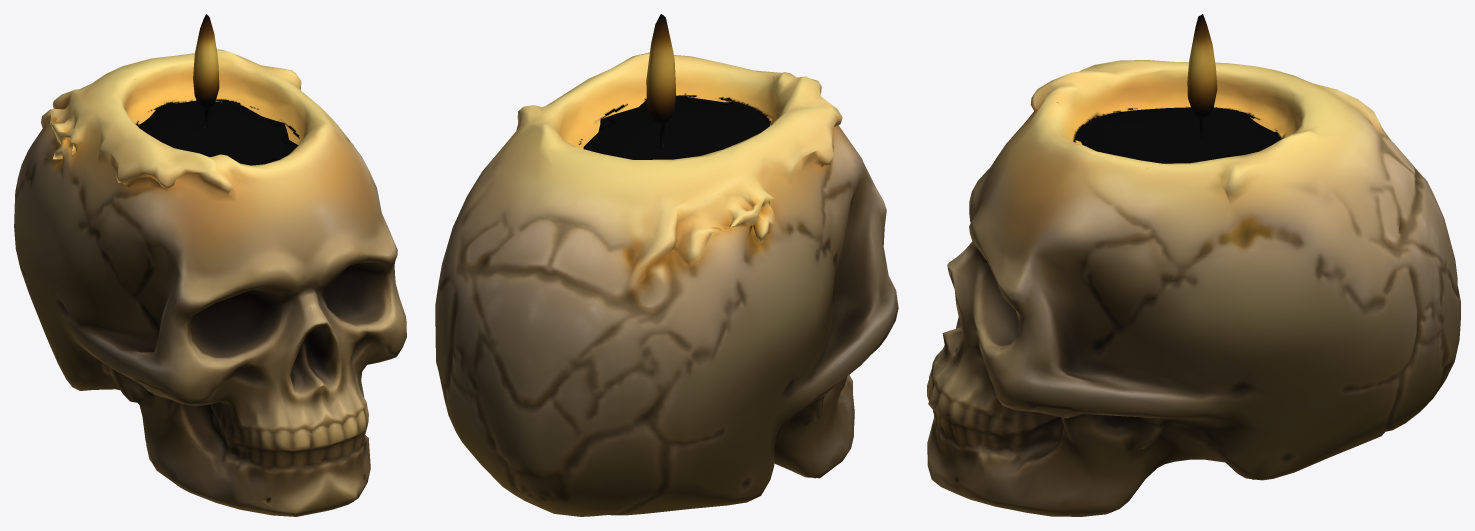
The model's file is crypt_SkullCandle.glb.
The picture shows the model from 3 angles, left to right: view 1: azimuth 30°, elevation 25°; view 2: azimuth 150°, elevation 25°; view 3: azimuth 270°, elevation 25°; orthographic projection. The views are drawn at different scales.
Visible parts, largest first — view 1: world; view 2: world; view 3: world.
Boxes of the visible parts, x1,y1,x2,y2 form: world: (14, 14, 406, 516); world: (435, 14, 898, 516); world: (927, 14, 1460, 516).
Bounding box in the file's own units: 0.6536 × 0.9595 × 0.998.
1 material, 1 textured.
